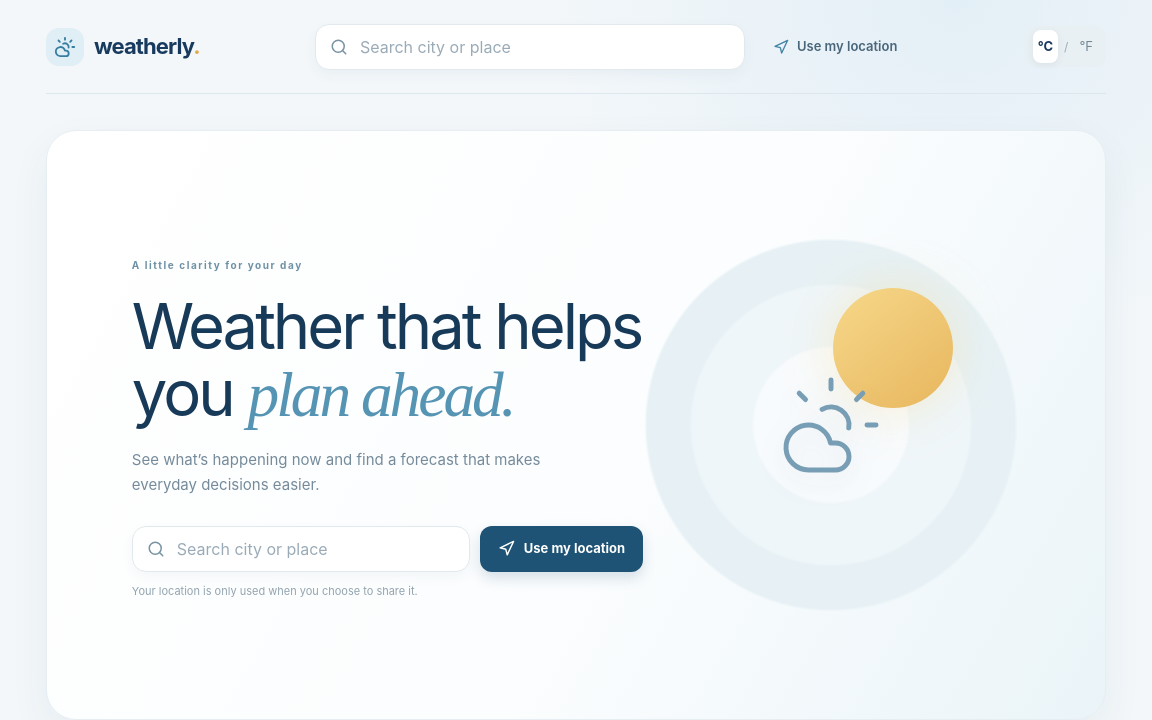
Scenario: Weatherly first-use and search flow › shows a clear empty state when city search has no matches
The width and height of the screenshot is (1152, 720).
Type "Narnia" into the field named "Search for a city" at x=530, y=46, box [315, 24, 745, 70]
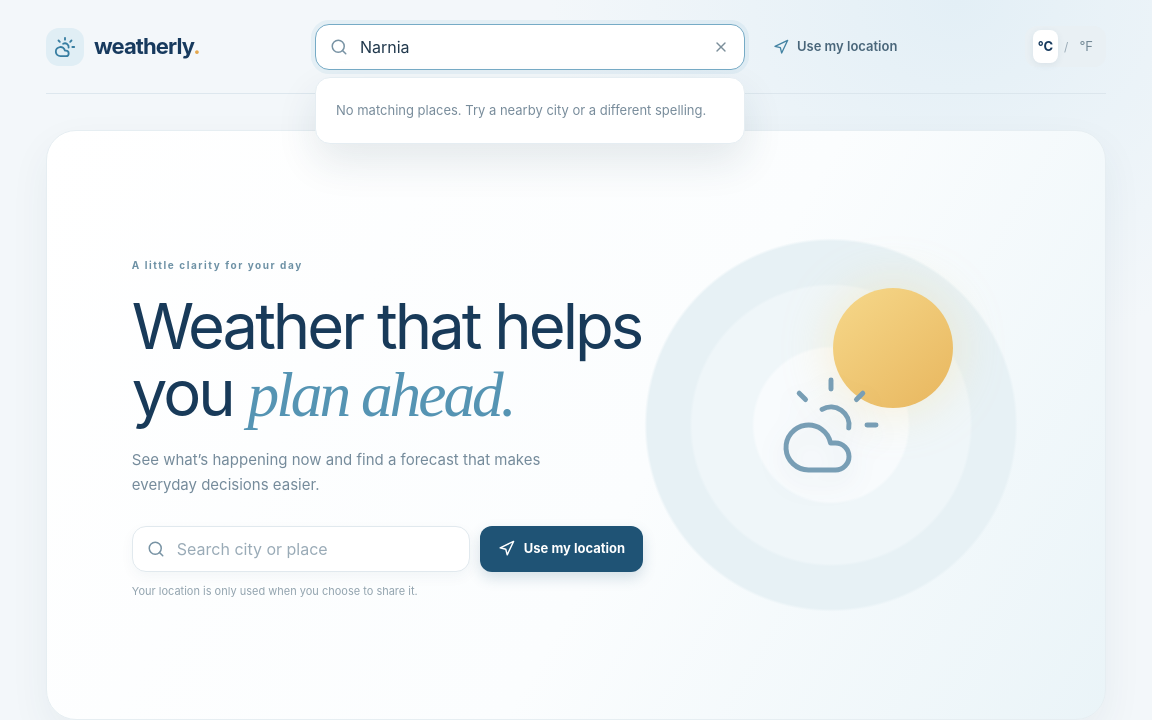
Expected: the text "No matching places" is shown, [336, 102, 706, 118]
